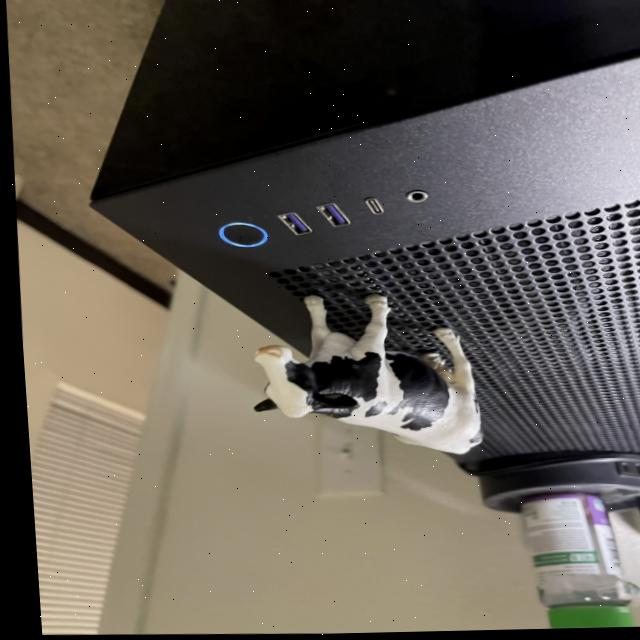cow: (241, 282, 491, 458)
